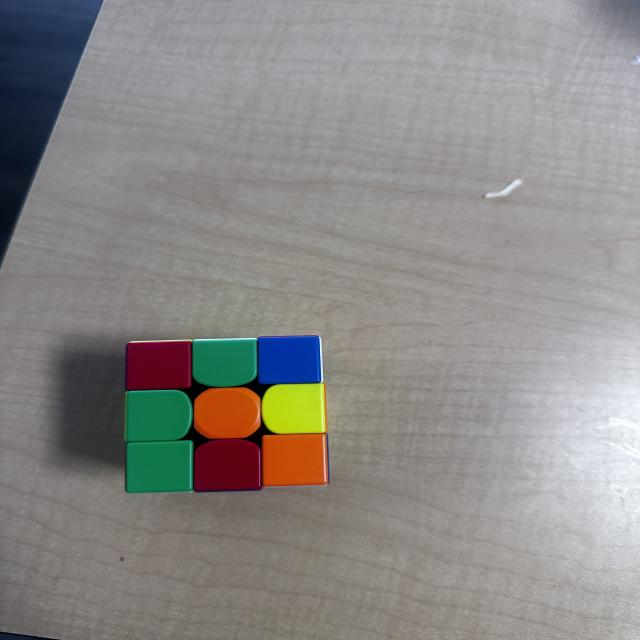sticker: (191, 438, 264, 494), (124, 339, 195, 393), (260, 433, 329, 488), (126, 440, 196, 494), (193, 387, 263, 440), (125, 390, 194, 443), (255, 335, 323, 387), (191, 338, 259, 389), (261, 383, 326, 436)
